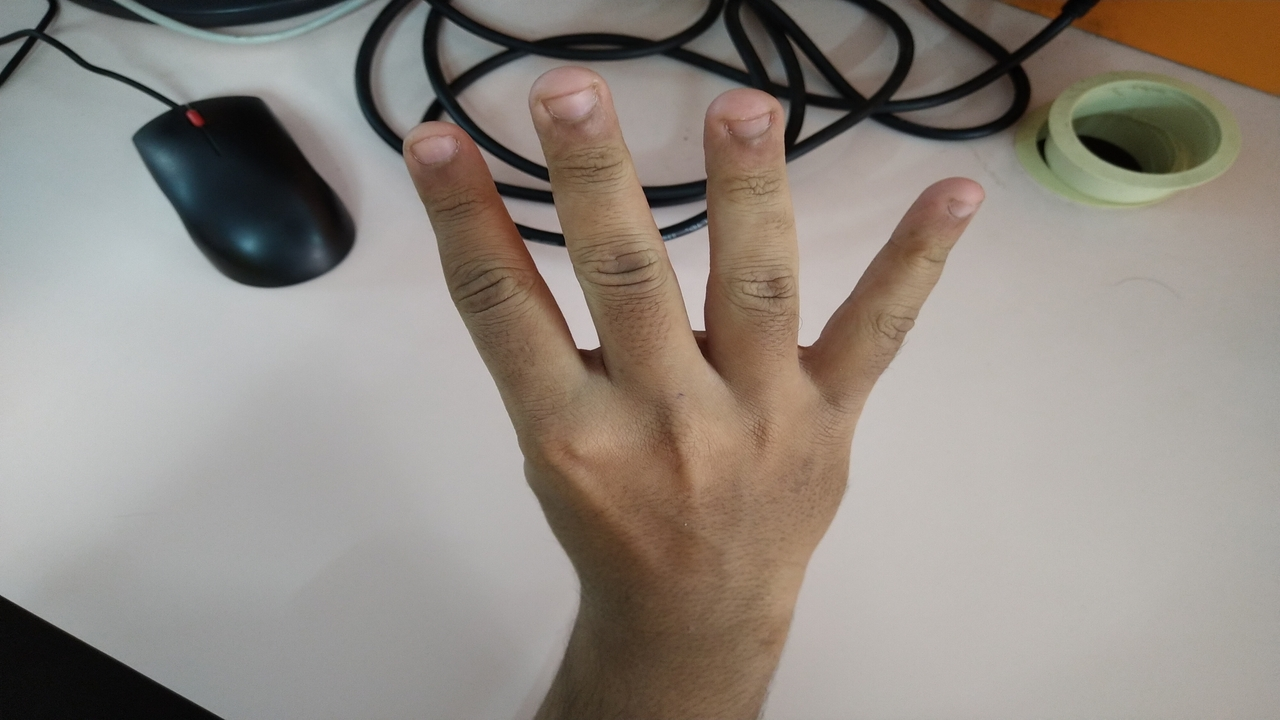fingertip: (524, 64, 612, 140), (698, 84, 784, 156), (388, 108, 472, 180), (922, 168, 1002, 228)
